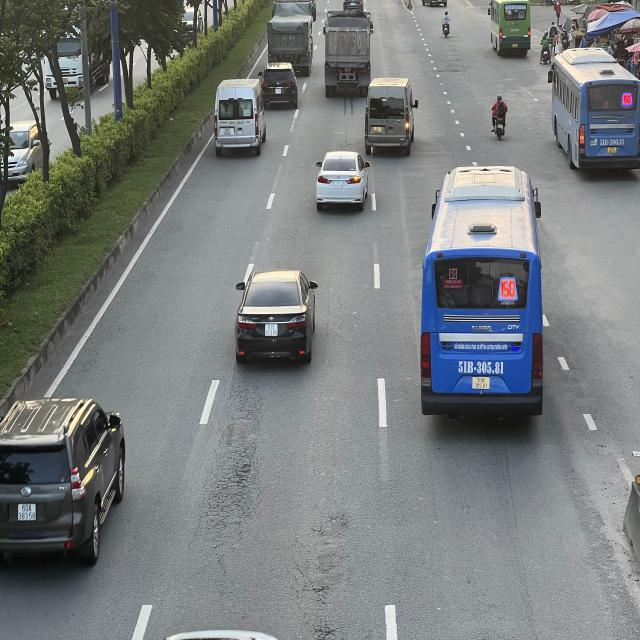car: (0, 399, 123, 570), (235, 270, 319, 366), (314, 150, 370, 210), (260, 62, 300, 108)
coach: (421, 167, 542, 421), (548, 46, 637, 172), (489, 1, 533, 56)
container: (324, 9, 373, 93), (266, 0, 314, 72)
van: (212, 79, 264, 157), (362, 76, 416, 151)
